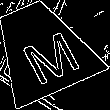M_NW: (7, 16, 76, 82)
